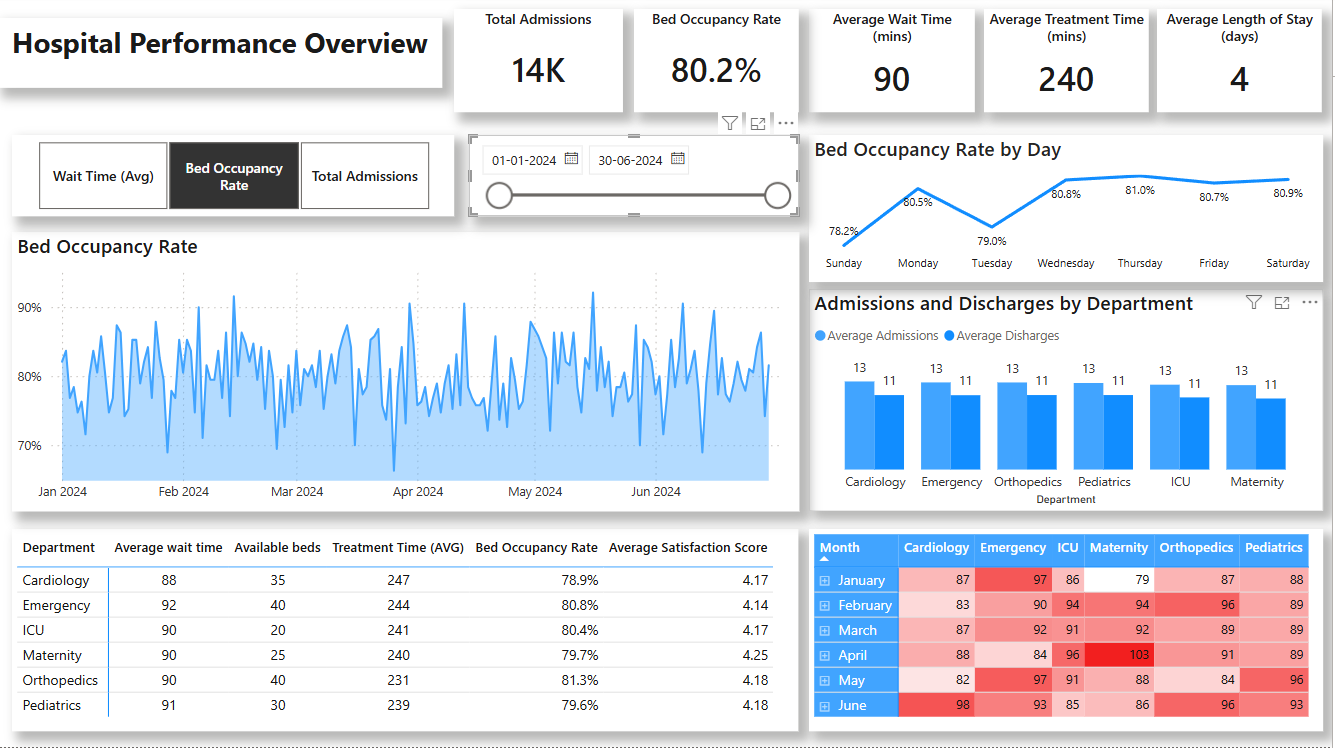

Layout of this report page (visuals, bound fields, positions):
{"tool":"powerbi","page":{"name":"Occupancy","canvas":[1280,720],"ordinal":0},"visuals":[{"type":"clusteredColumnChart","title":"Admissions and Discharges by Department","fields":{"Category":["hospital_data_6_months.Department"],"Y":["_Measures (2).Average Admissions","_Measures (2).Average Disharges"]},"box":[778.1,281.3,492.8,212.5],"z":0},{"type":"pivotTable","fields":{"Rows":["hospital_data_6_months.Department"],"Values":["_Measures (2).Wait Time (Avg)","Avg(hospital_data_6_months.Total Beds)","_Measures (2).Average Treatment Duration","_Measures (2).Bed Occupancy Rate","_Measures (2).Average Satisfaction Score"]},"box":[14.2,511,753.8,194.3],"z":1000},{"type":"slicer","fields":{"Values":["hospital_data_6_months.Date"]},"box":[452.6,133.3,316.4,77.7],"z":2000},{"type":"areaChart","fields":{"Y":["_Measures (2).Bed Occupancy Rate"],"Category":["hospital_data_6_months.Date.Variation.Date Hierarchy.Year","hospital_data_6_months.Date.Variation.Date Hierarchy.Quarter","hospital_data_6_months.Date.Variation.Date Hierarchy.Month","hospital_data_6_months.Date.Variation.Date Hierarchy.Day"]},"box":[14.4,226.3,754.6,267.5],"z":3000},{"type":"slicer","title":"Bed Occupancy Rate","fields":{"Values":["Field Selector.Field Selector"]},"box":[14.4,133.3,423.8,77.7],"z":4000},{"type":"pivotTable","fields":{"Rows":["hospital_data_6_months.Date.Variation.Date Hierarchy.Month","hospital_data_6_months.Date.Variation.Date Hierarchy.Day"],"Columns":["hospital_data_6_months.Department"],"Values":["_Measures (2).Wait Time (Avg)"]},"box":[778.1,511,492.8,194.3],"z":5000},{"type":"textbox","box":[0,21.1,427.3,67.2],"z":6000},{"type":"card","title":"Total Admissions","fields":{"Values":["_Measures (2).Total Admissions"]},"box":[438.4,12,161.5,99.3],"z":7000},{"type":"card","title":"Average Wait Time (mins)","fields":{"Values":["_Measures (2).Wait Time (Avg)"]},"box":[778.4,12,159.5,99.3],"z":8000},{"type":"card","title":"Average Treatment Time (mins)","fields":{"Values":["_Measures (2).Treatment Time (AVG)"]},"box":[946,12,158.5,99.3],"z":9000},{"type":"card","title":"Bed Occupancy Rate","fields":{"Values":["_Measures (2).Bed Occupancy Rate"]},"box":[610.8,12.5,158.2,98.8],"z":10000},{"type":"card","title":"Average Length of Stay (days)","fields":{"Values":["_Measures (2).Lenght of Stay (AVG)"]},"box":[1112.5,12,158.5,99.3],"z":11000},{"type":"lineChart","fields":{"Category":["hospital_data_6_months.Day"],"Y":["_Measures (2).Bed Occupancy Rate"]},"box":[778.1,133.6,492.8,140.6],"z":12000}]}

Visuals, with their boxes in screenshot pixels (x1, y1, x2, y2), scaled from the page's 1280x720 canvas onto the 1335x748 screenshot:
"Admissions and Discharges by Department" clusteredColumnChart: (812, 292, 1326, 513)
pivotTable - hospital_data_6_months.Department x _Measures (2).Wait Time (Avg): (15, 531, 801, 733)
slicer - hospital_data_6_months.Date: (472, 138, 802, 219)
areaChart - _Measures (2).Bed Occupancy Rate x hospital_data_6_months.Date.Variation.Date Hierarchy.Year: (15, 235, 802, 513)
"Bed Occupancy Rate" slicer: (15, 138, 457, 219)
pivotTable - hospital_data_6_months.Date.Variation.Date Hierarchy.Month x hospital_data_6_months.Date.Variation.Date Hierarchy.Day: (812, 531, 1326, 733)
textbox: (0, 22, 446, 92)
"Total Admissions" card: (457, 12, 626, 116)
"Average Wait Time (mins)" card: (812, 12, 978, 116)
"Average Treatment Time (mins)" card: (987, 12, 1152, 116)
"Bed Occupancy Rate" card: (637, 13, 802, 116)
"Average Length of Stay (days)" card: (1160, 12, 1326, 116)
lineChart - hospital_data_6_months.Day x _Measures (2).Bed Occupancy Rate: (812, 139, 1326, 285)
